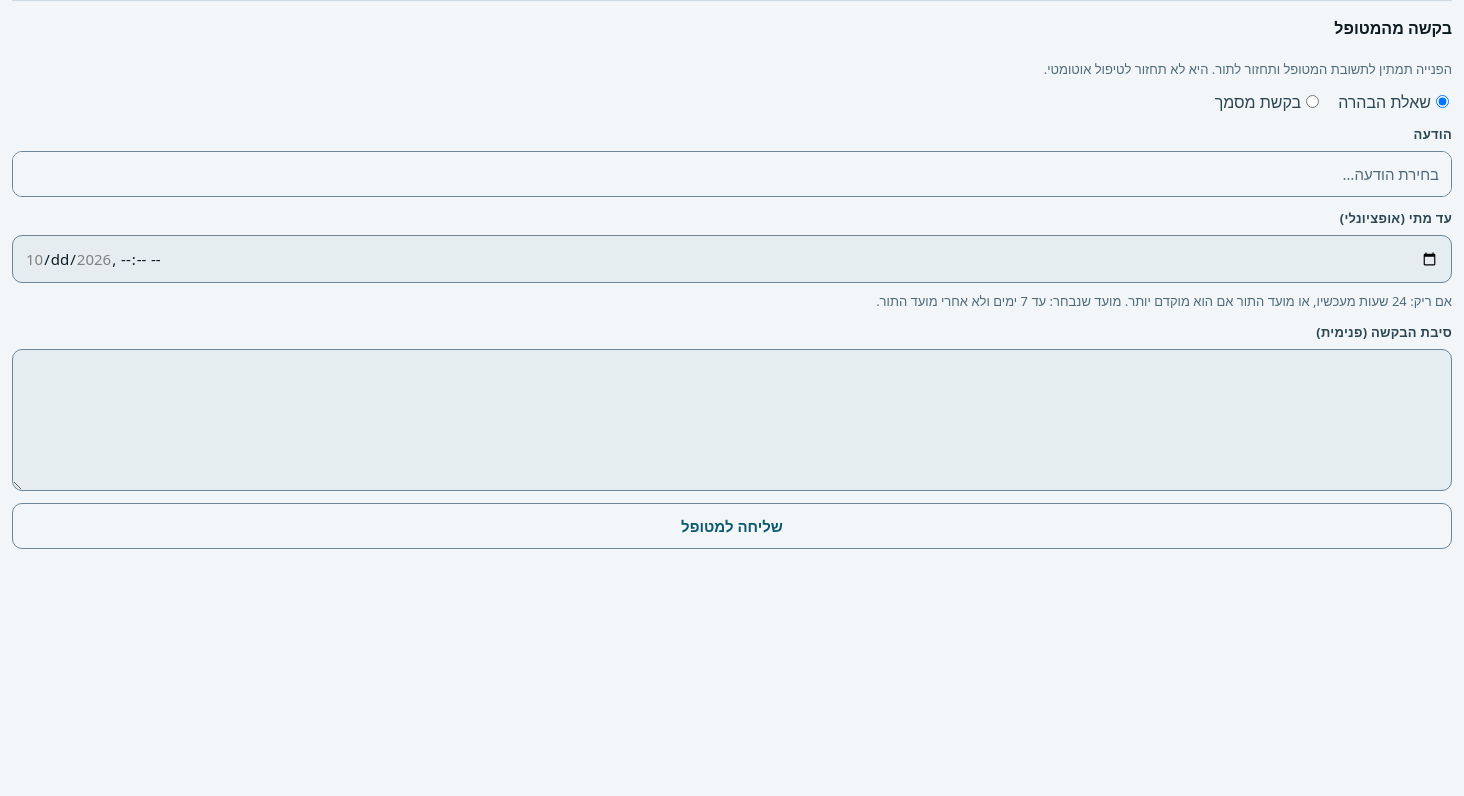
Test case: PatientRequest › requires free text to be filled in before sending
Select "טקסט חופשי (צוות קליני)" in the dropdown labelled "הודעה": (732, 174) [13,152,1451,196]
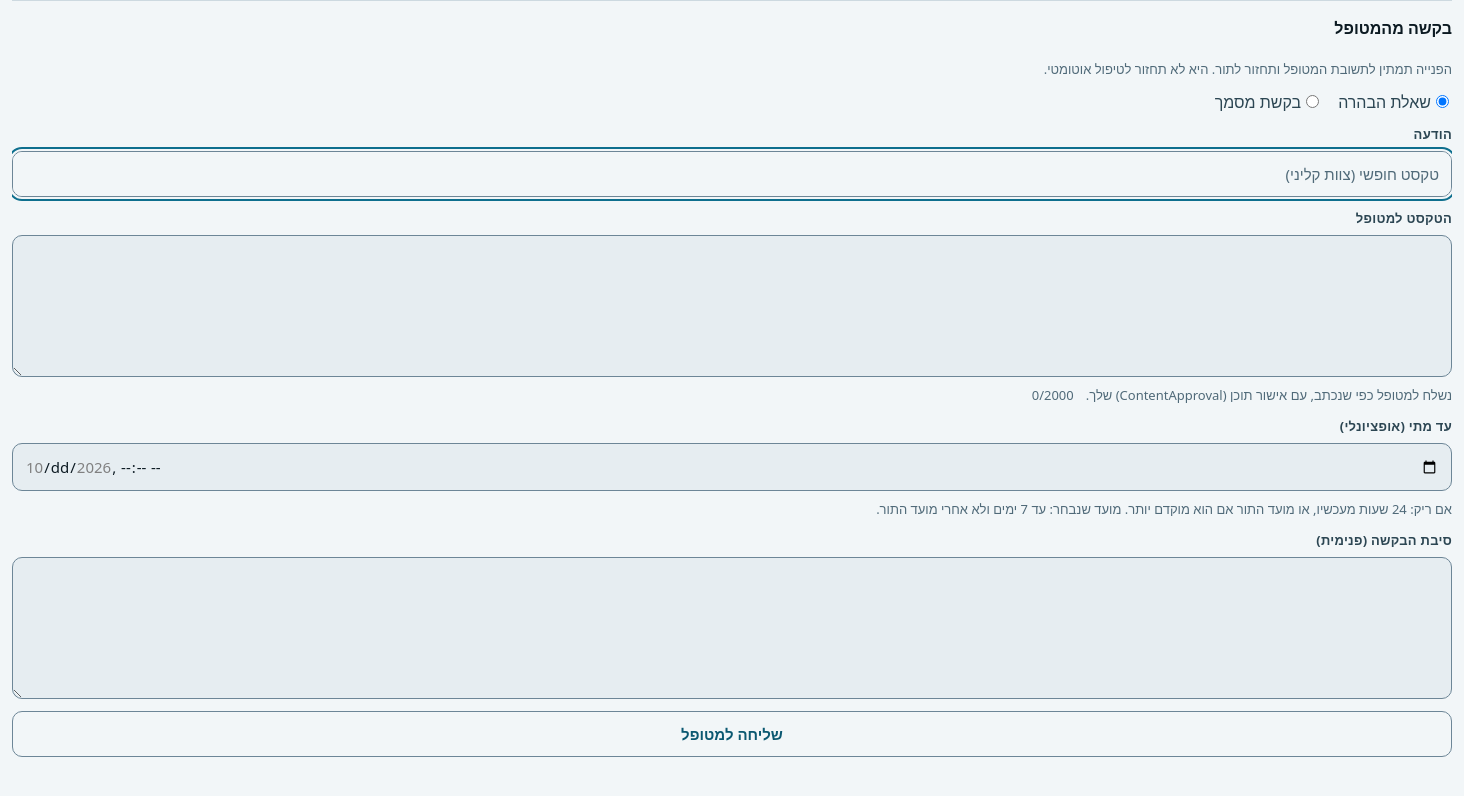
In the text box labelled "סיבת הבקשה (פנימית)": (732, 628) [13,558,1451,698], type "r"
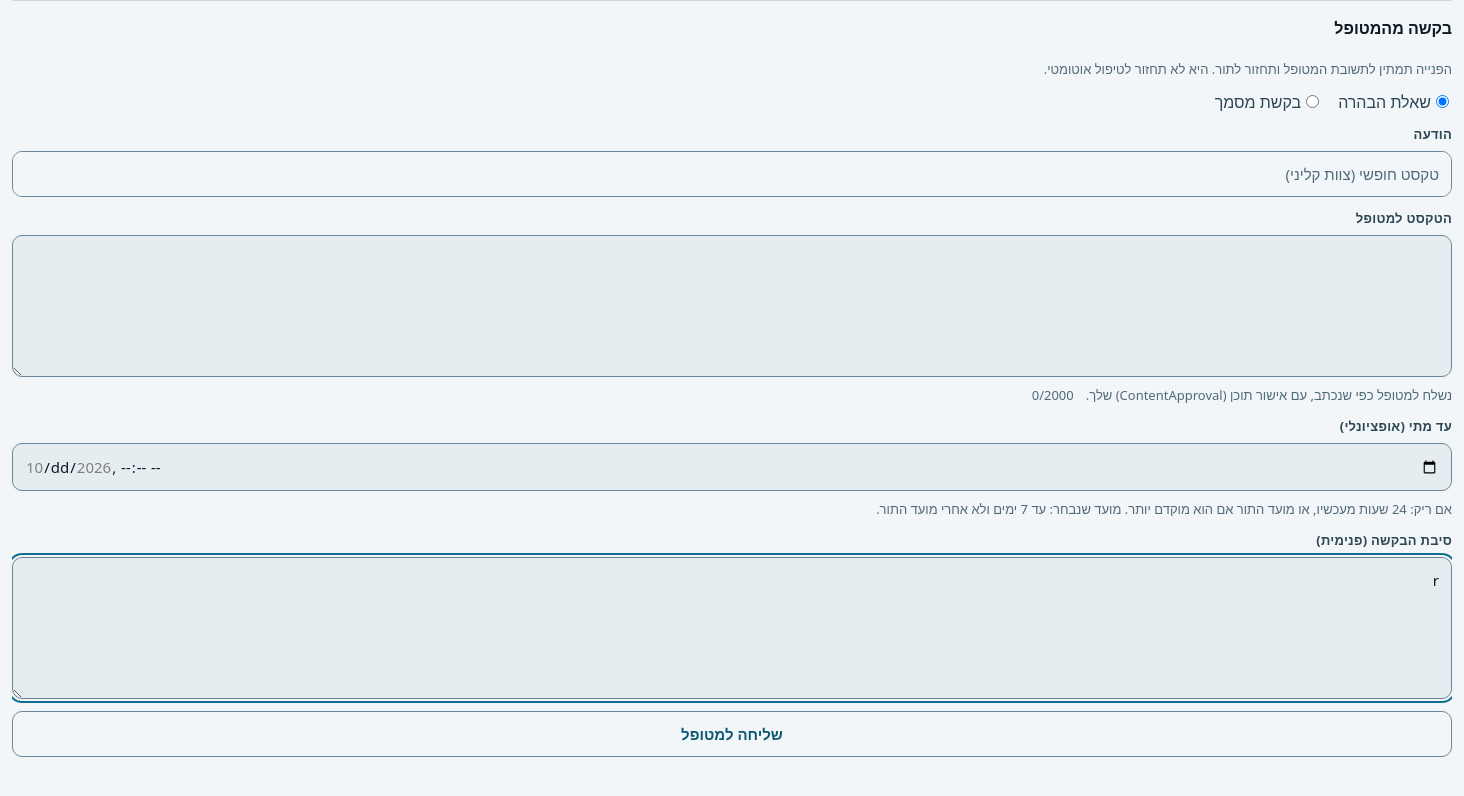
Click the button "שליחה למטופל": click(732, 734) [12,711,1452,757]
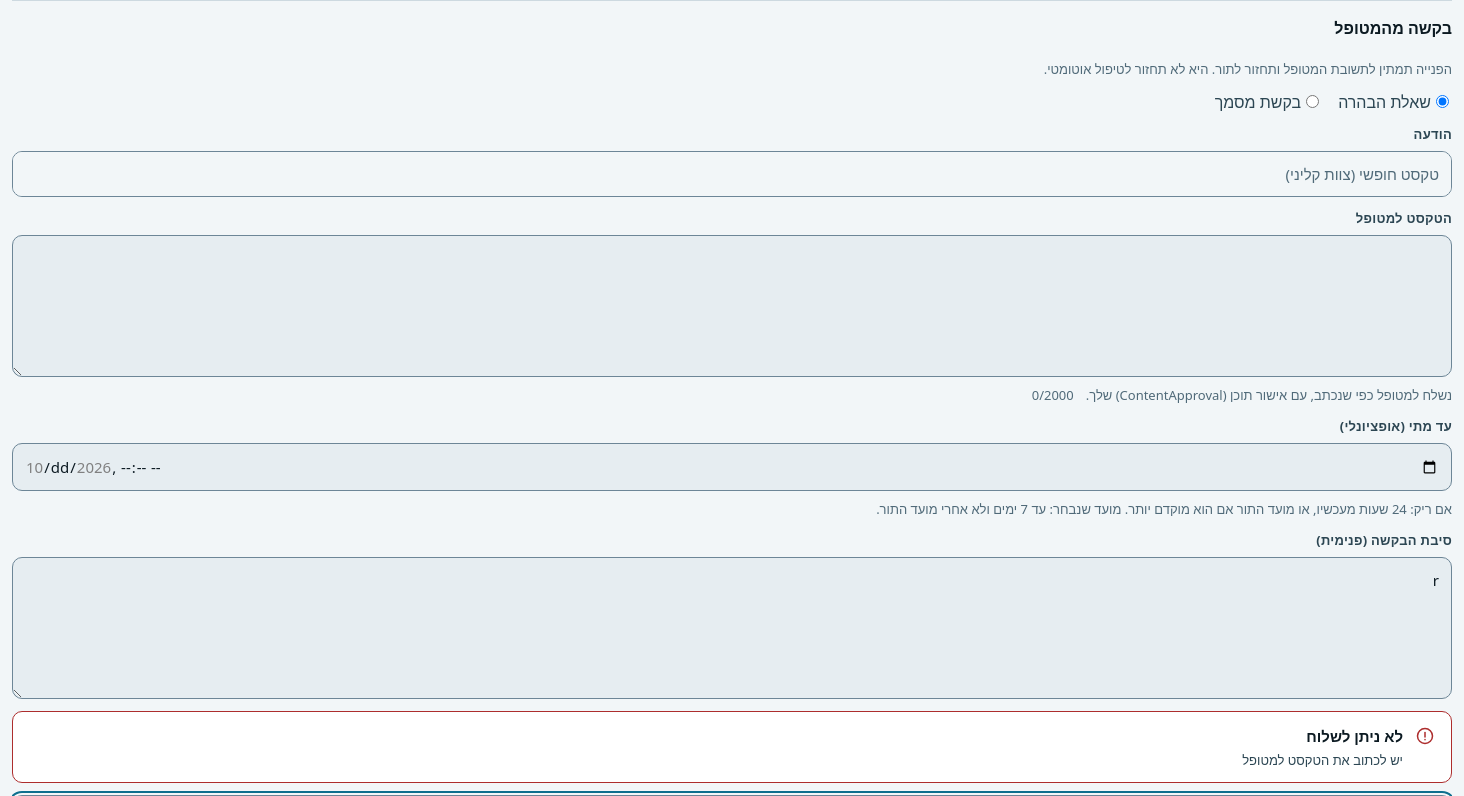
Expected: the text "יש לכתוב את הטקסט למטופל" is shown, [1242,750,1403,770]
